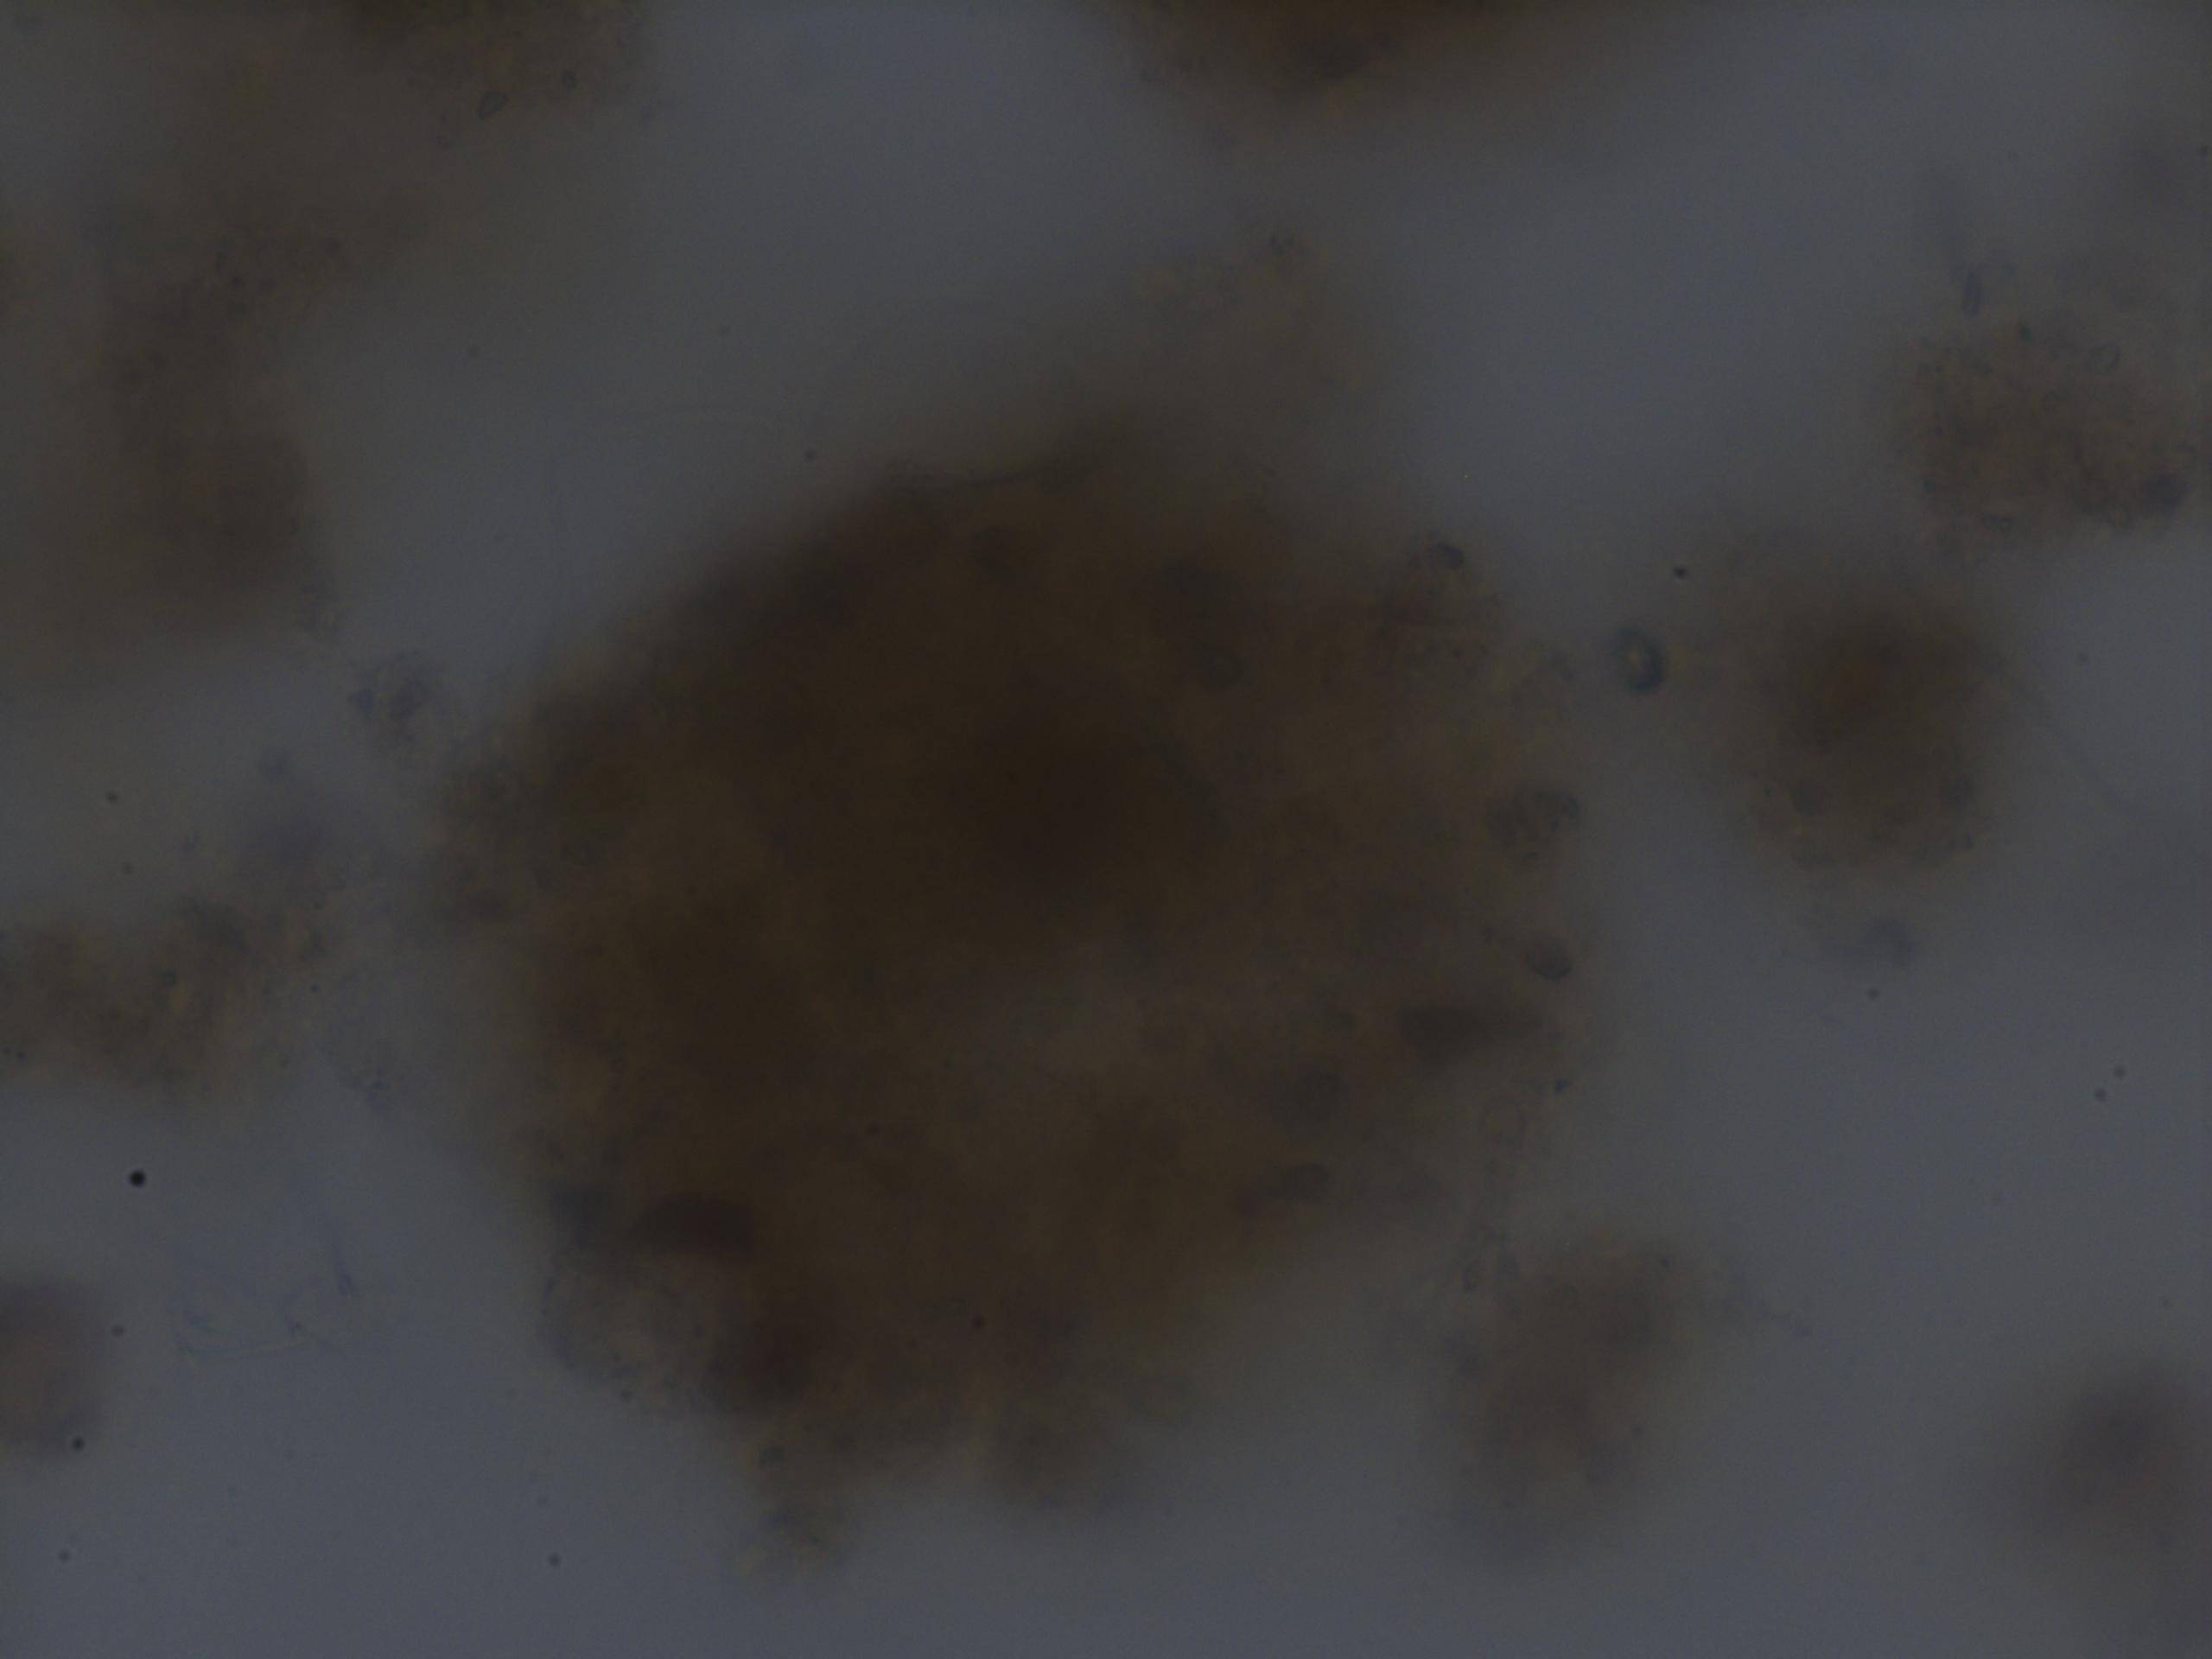spherical_floc: (413, 418, 1613, 1554)
